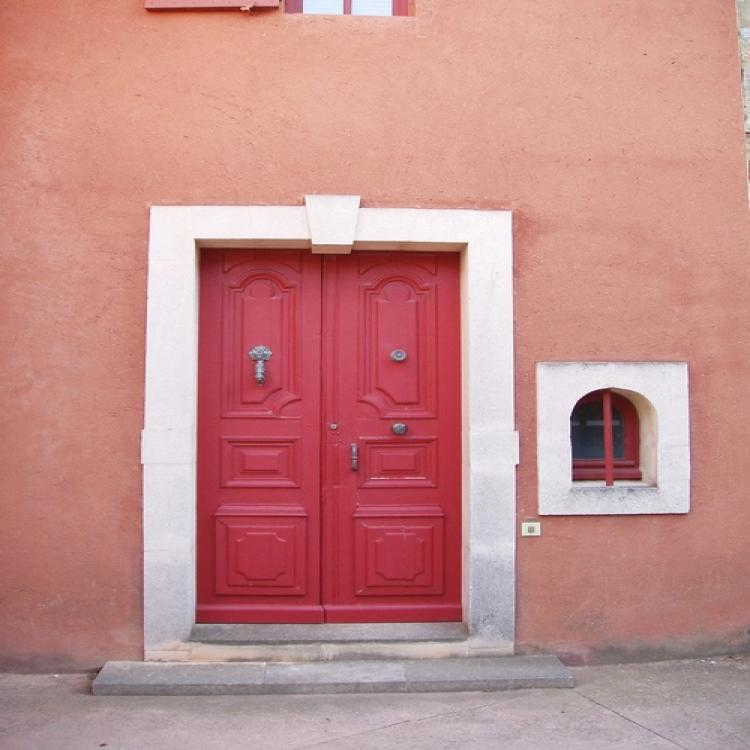ClosedDoor: (176, 228, 483, 651)
